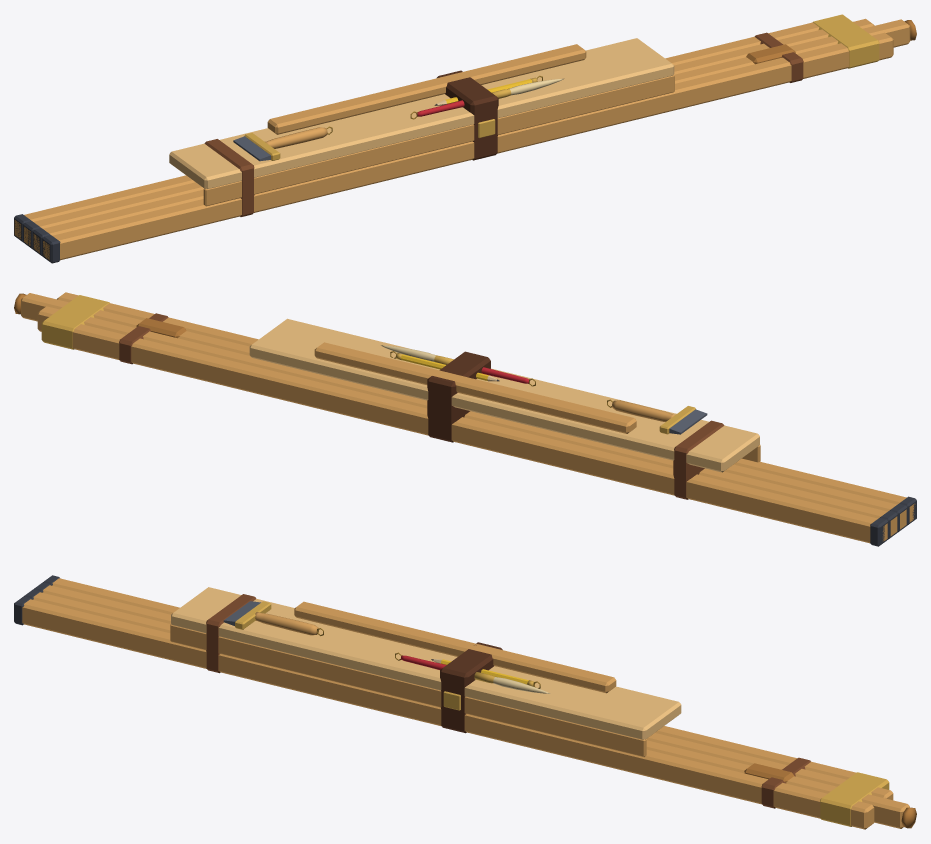
The model's file is easel_folded.glb.
The picture shows the model from 3 angles, top to bottom: view 1: azimuth 30°, elevation 25°; view 2: azimuth 150°, elevation 25°; view 3: azimuth 330°, elevation 25°; orthographic projection.
Parts seen in each view (by area): view 1: EaselFoldedMesh; view 2: EaselFoldedMesh; view 3: EaselFoldedMesh.
Boxes of the visible parts, box(x1,y1,x2,y2) form: EaselFoldedMesh: box(14, 14, 916, 263); EaselFoldedMesh: box(14, 292, 916, 546); EaselFoldedMesh: box(14, 575, 916, 829).
Size of the model in its own units: 1.55 by 0.1 by 0.12.
Materials: 1 (1 with a texture image).
